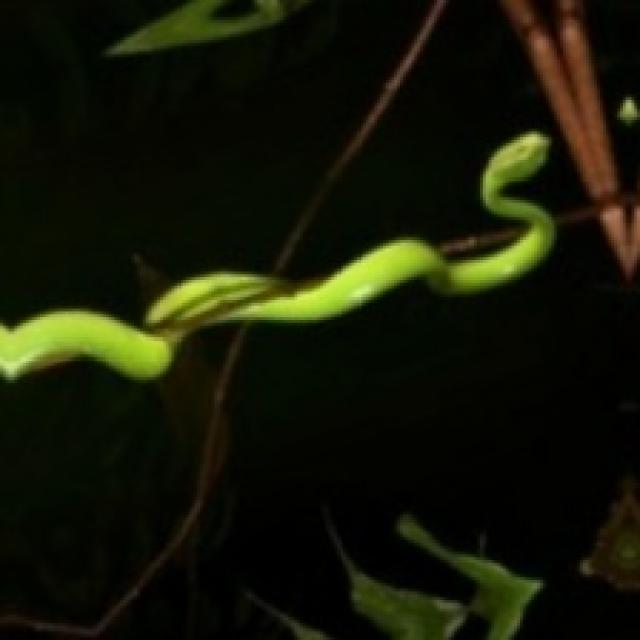north ph temple pitviper: (0, 131, 551, 377)
